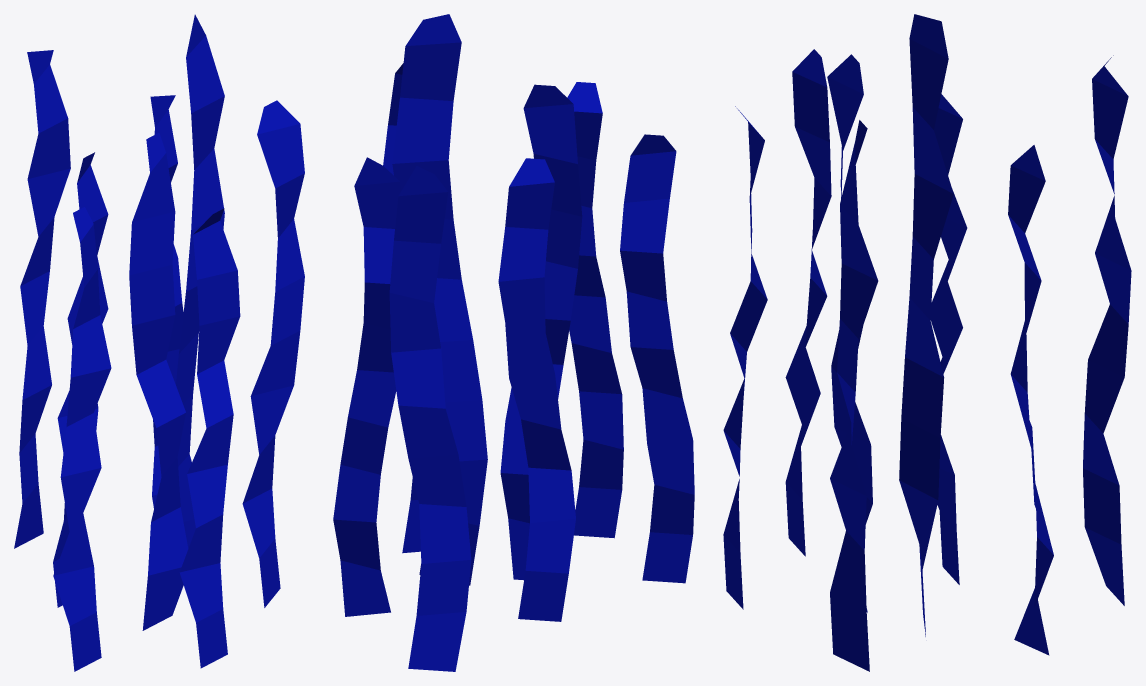
The model's file is propKelp1B.fbx.
3 views of the same model, side by side, from view 1: azimuth 30°, elevation 25°; view 2: azimuth 150°, elevation 25°; view 3: azimuth 270°, elevation 25° (orthographic). The views are drawn at different scales.
Visible parts, largest first — view 1: Kelp1B; view 2: Kelp1B; view 3: Kelp1B.
Boxes of the visible parts, x1=… form: Kelp1B: x1=14, y1=14, x2=304, y2=671; Kelp1B: x1=333, y1=14, x2=694, y2=671; Kelp1B: x1=723, y1=14, x2=1131, y2=671.
Bounding box in the file's own units: 240 × 467 × 278.
